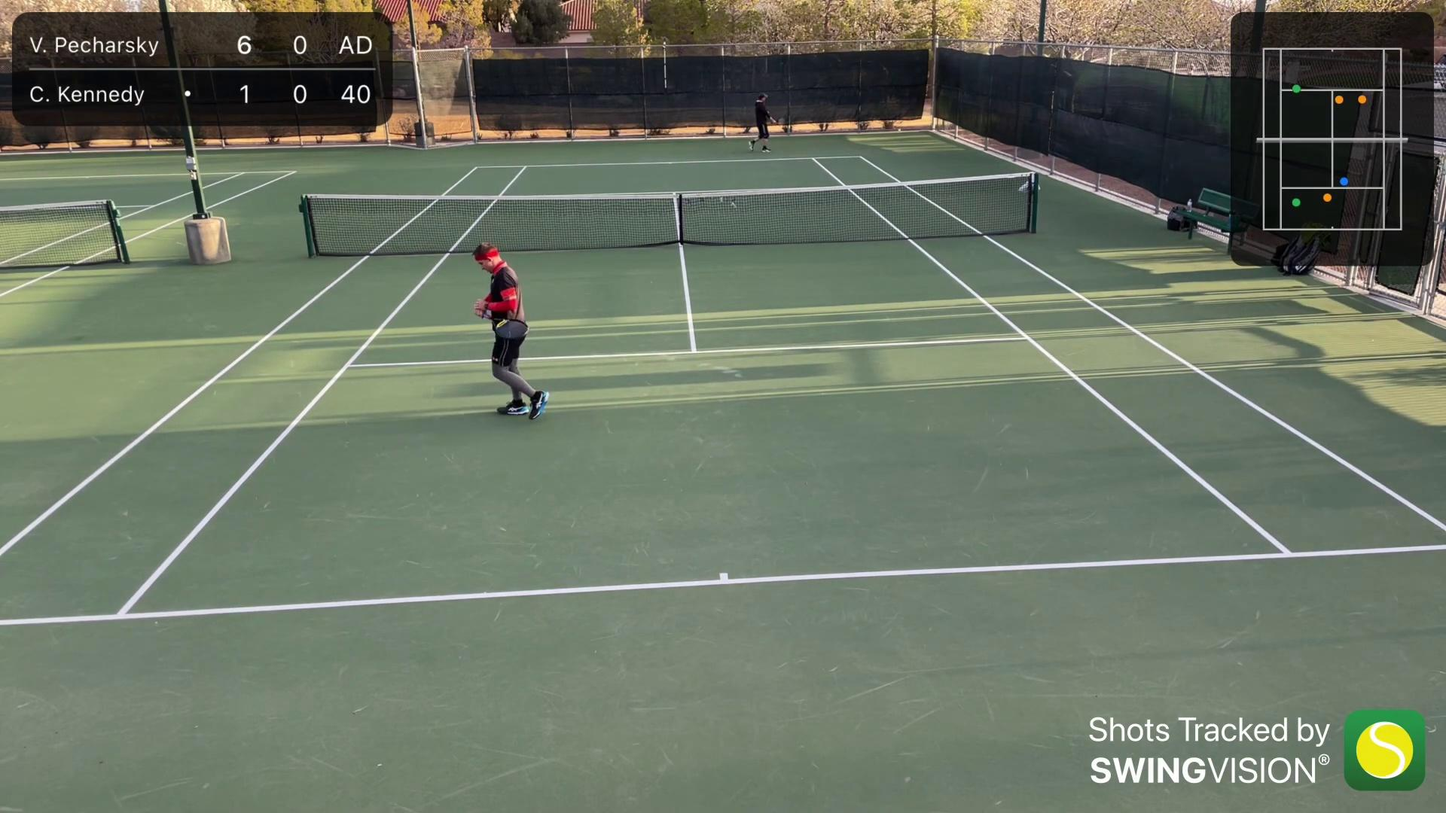ball: (897, 127, 904, 134)
